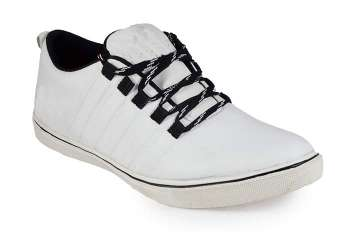Footwear: (30, 19, 327, 211)
